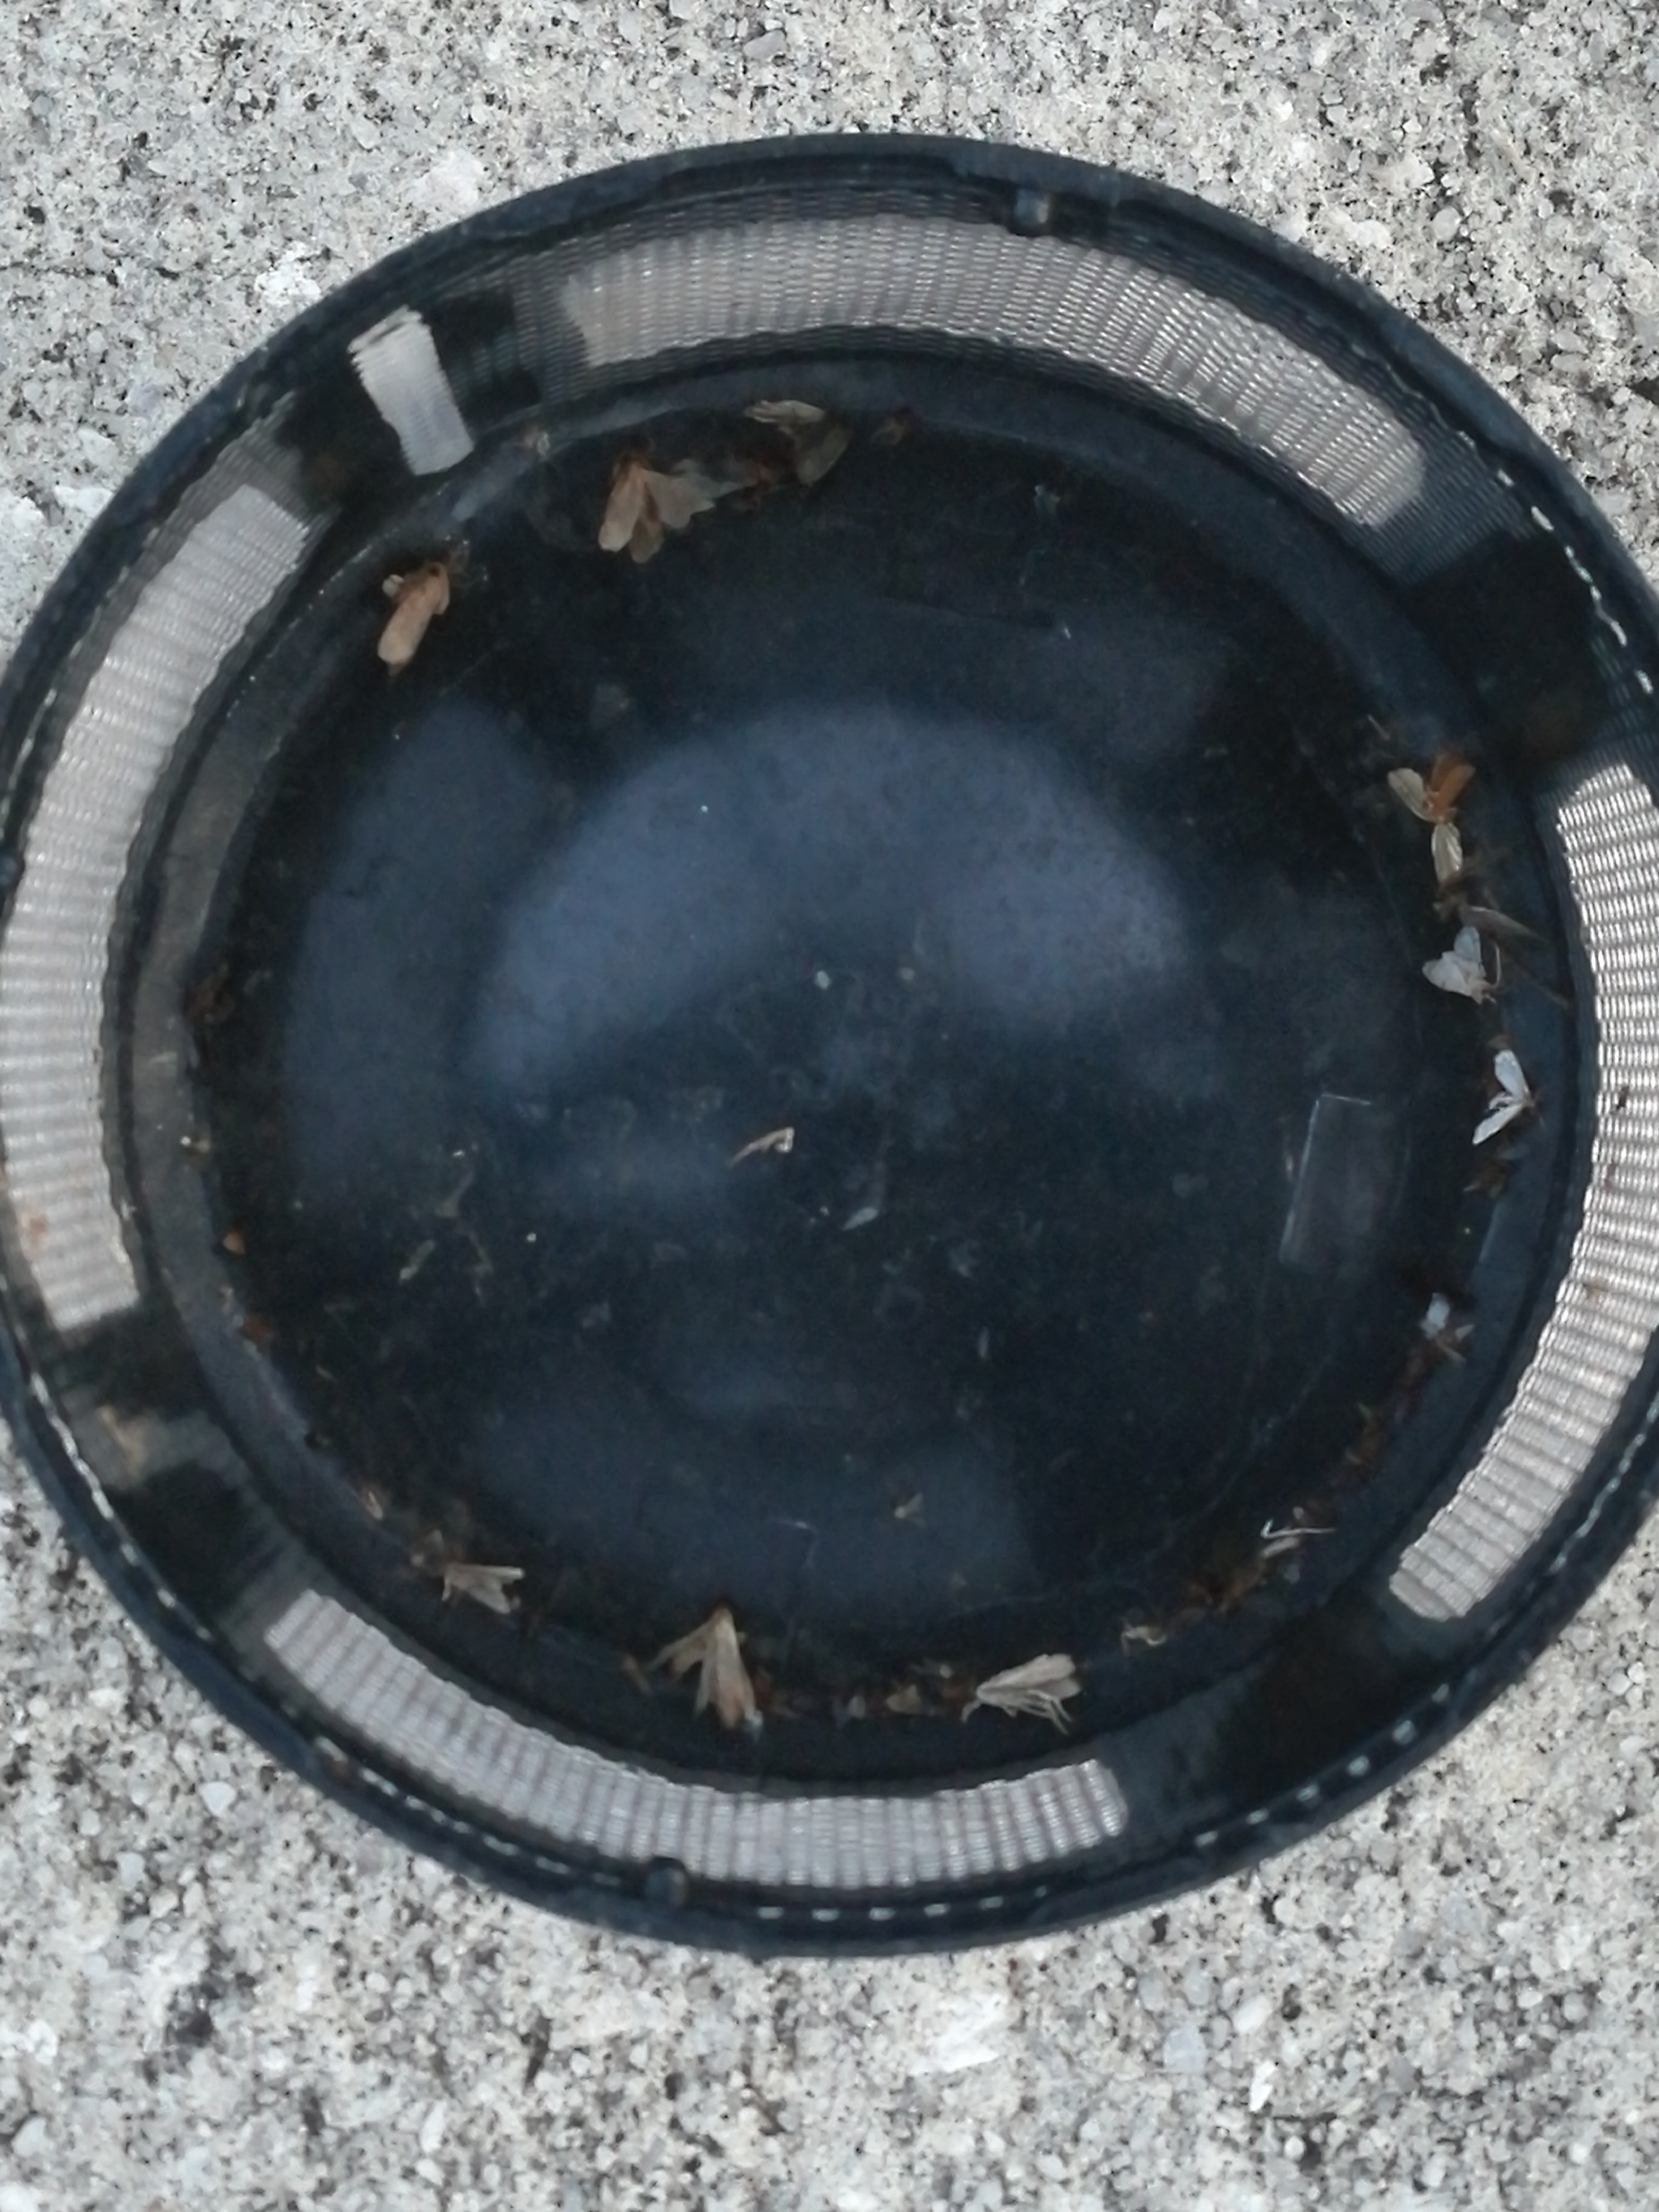mosquito: (978, 1653, 1080, 1709)
moth: (655, 1615, 755, 1719), (605, 463, 706, 563), (1394, 758, 1466, 881), (385, 557, 448, 662), (1471, 1052, 1530, 1148), (1422, 928, 1490, 1008), (443, 1566, 521, 1609)
